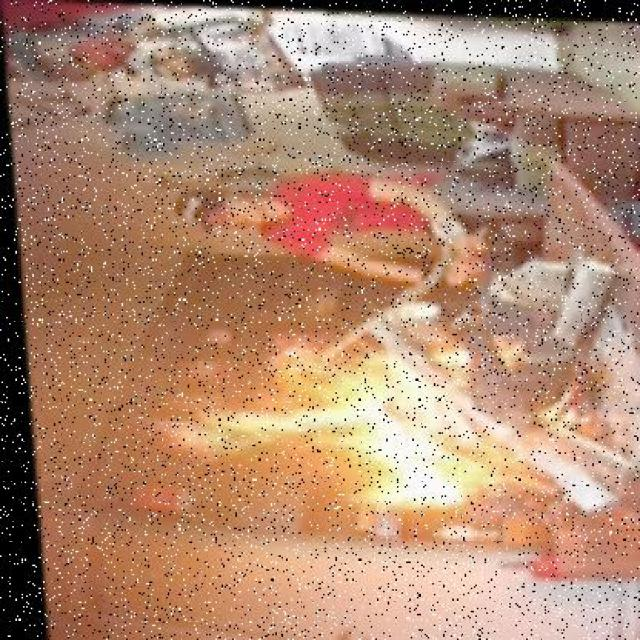fire: (149, 315, 495, 566)
